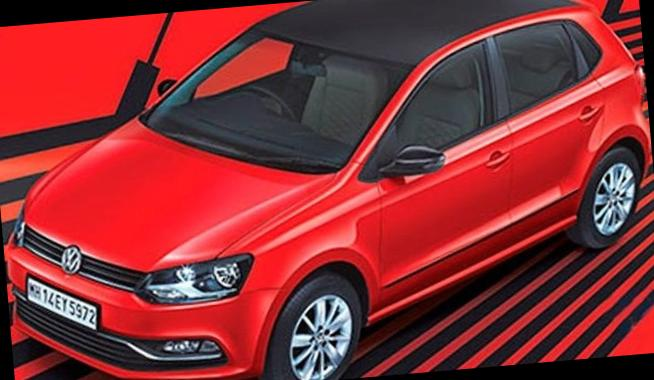plate: (25, 262, 111, 344)
